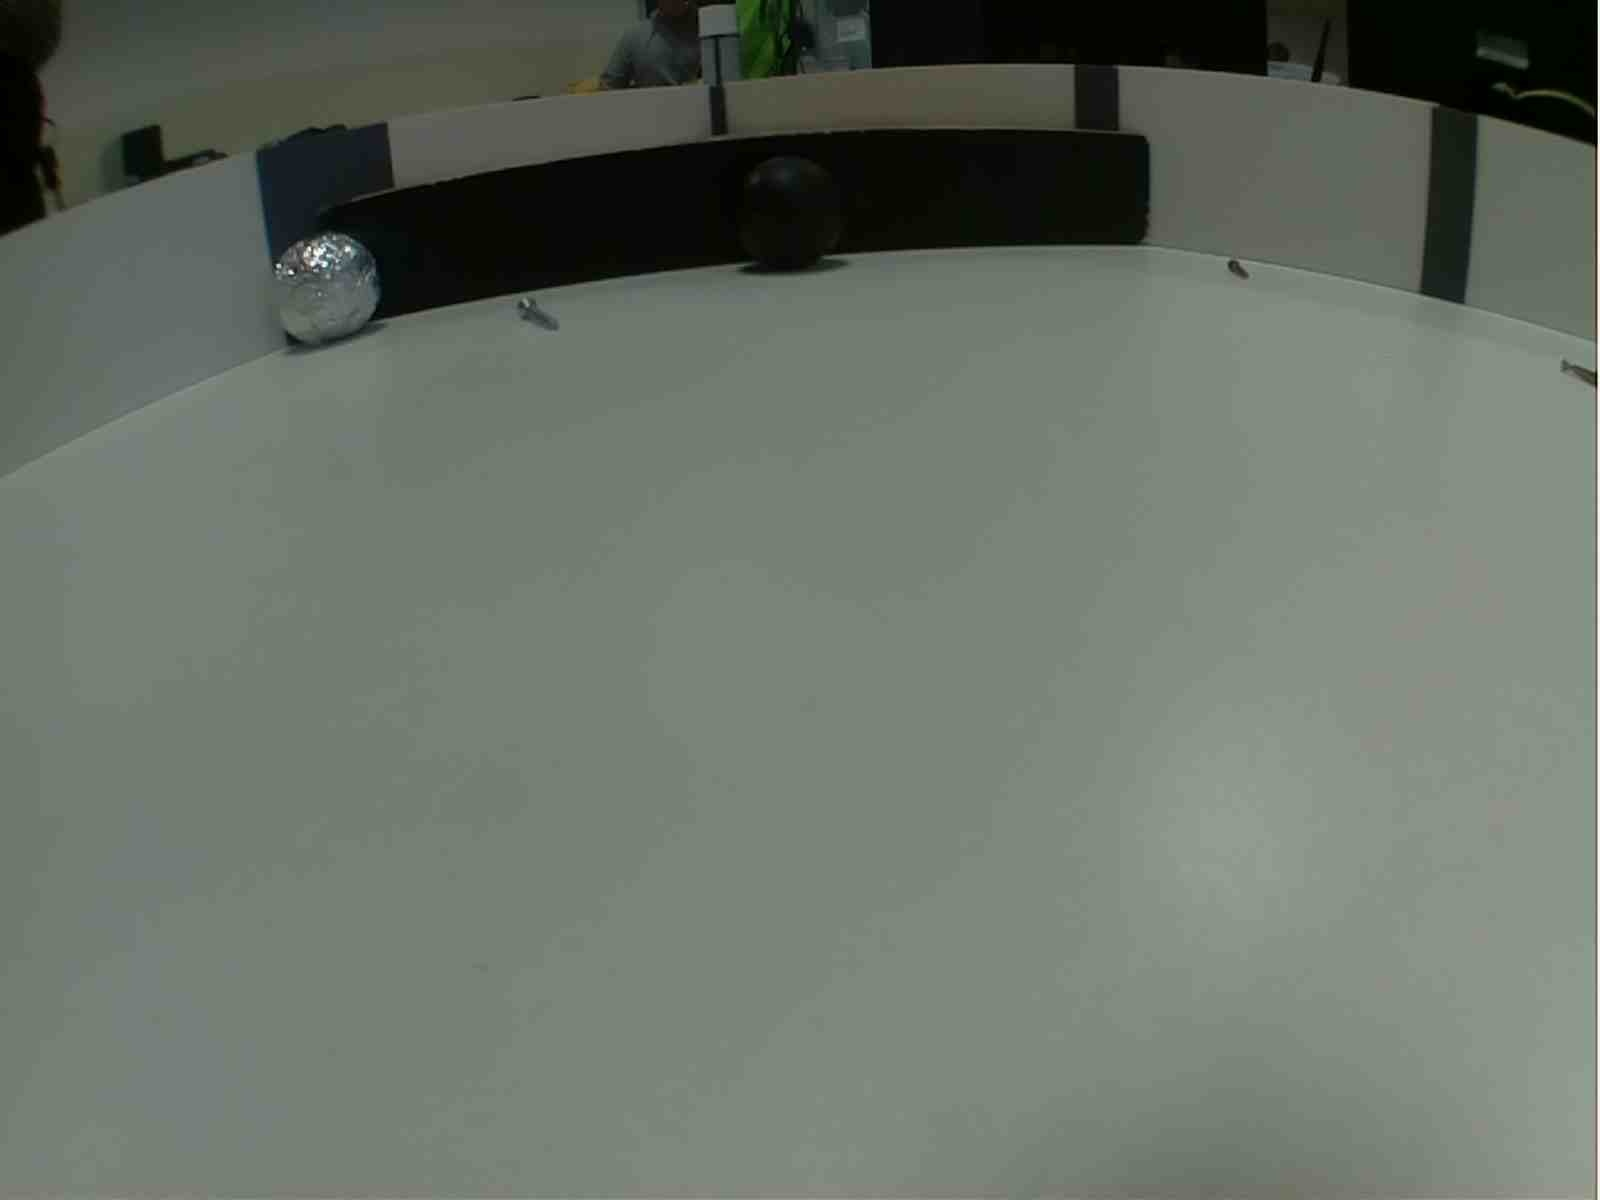bianca: (272, 233, 378, 348)
